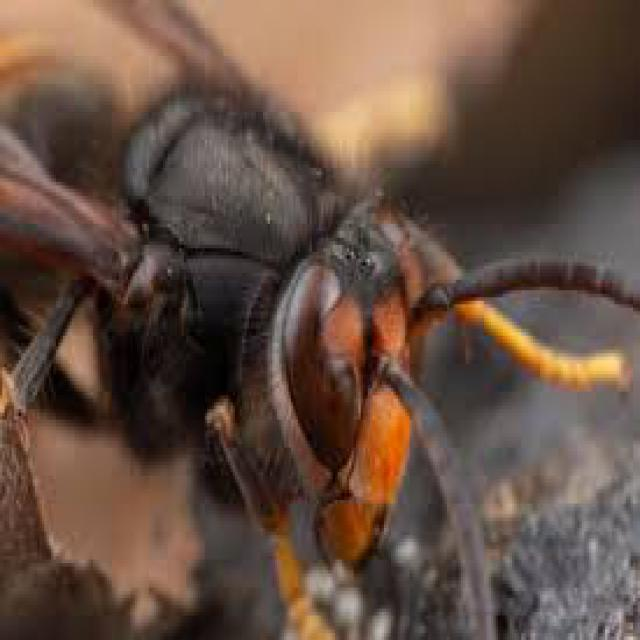Vespa Velutina: (0, 0, 638, 637)
